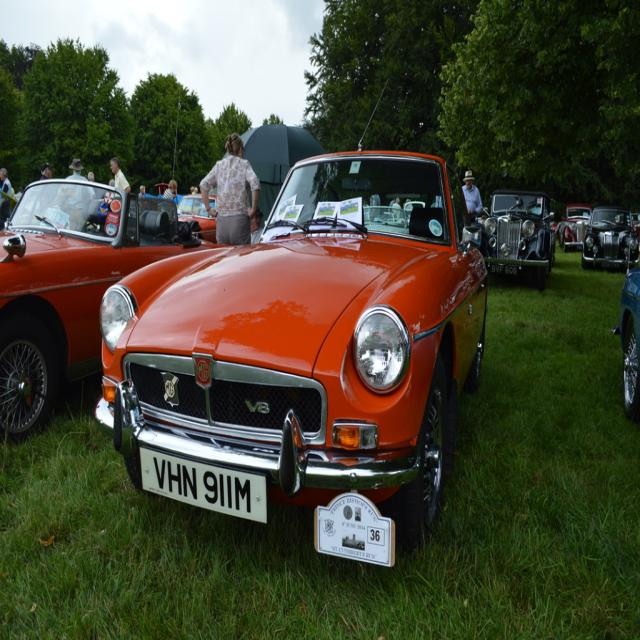other: (0, 62, 639, 565)
